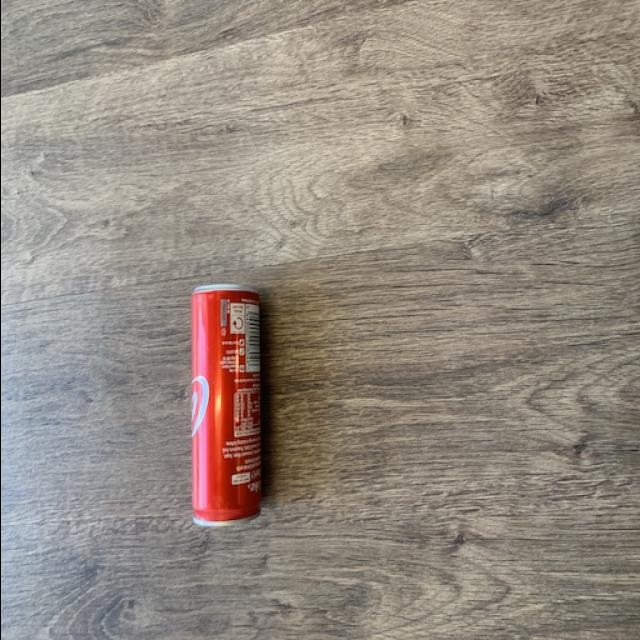litter: (154, 230, 294, 571)
